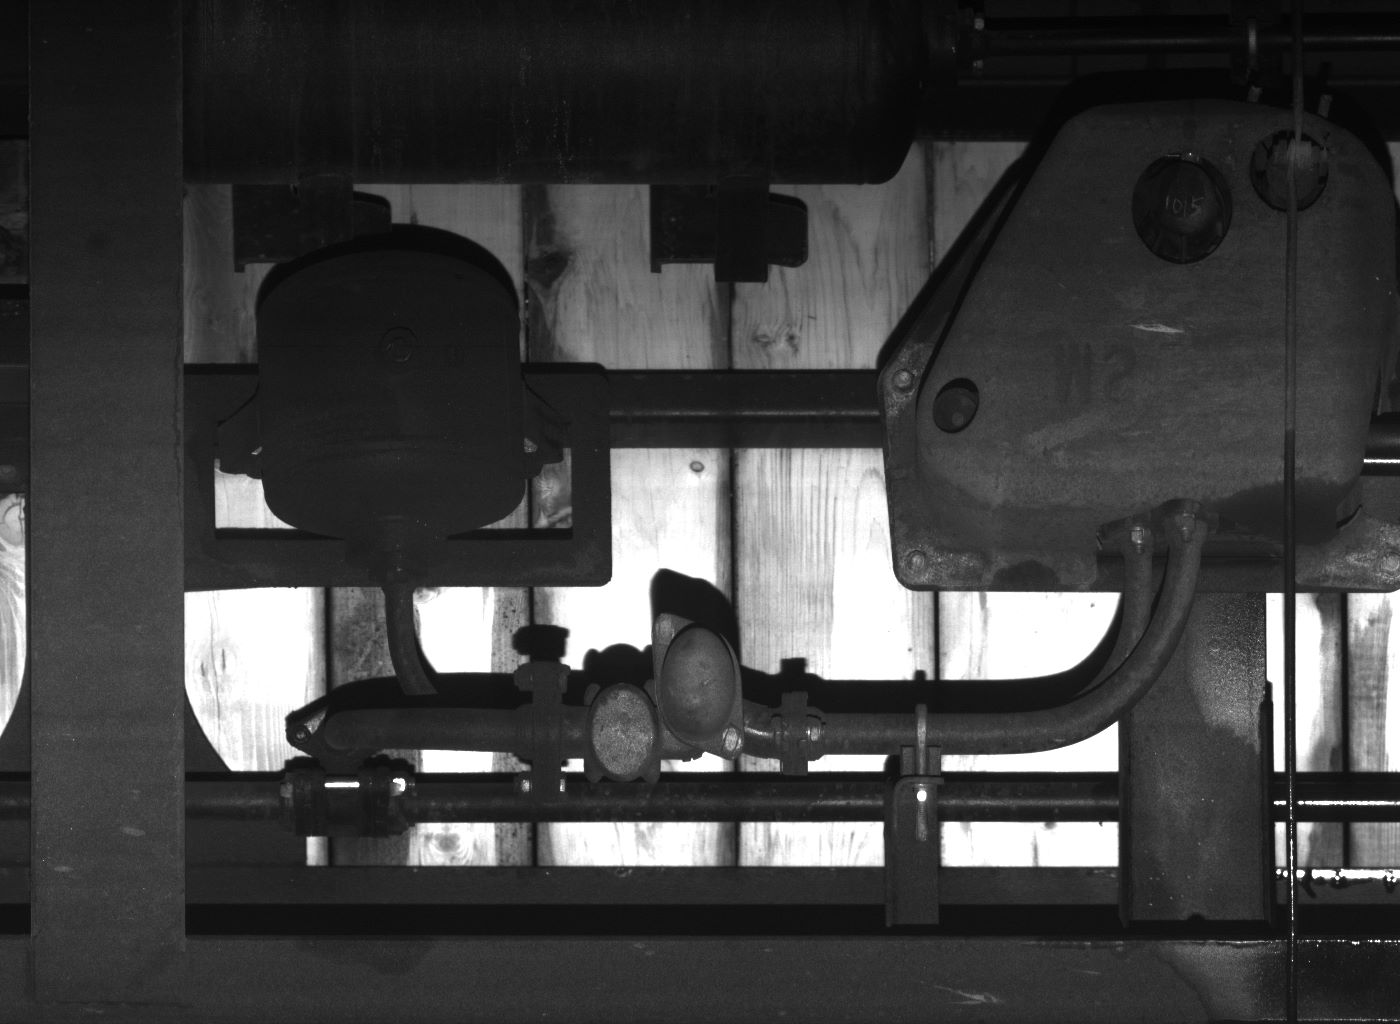normal: (579, 680, 665, 787)
